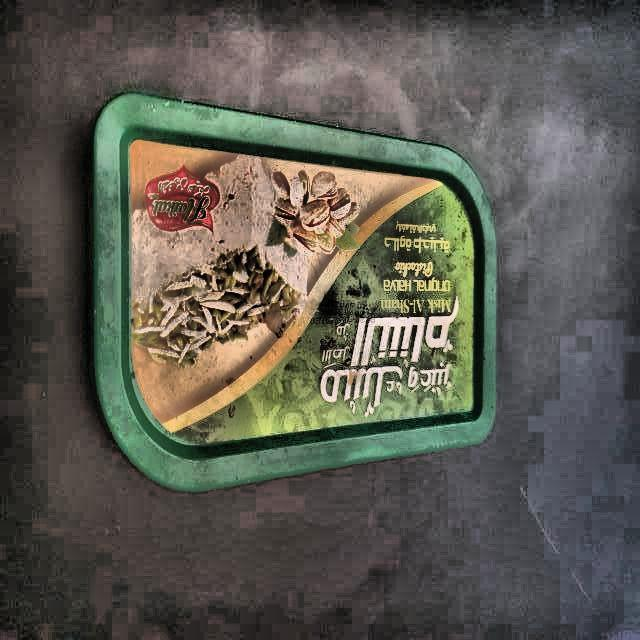plastic: (94, 94, 494, 488)
